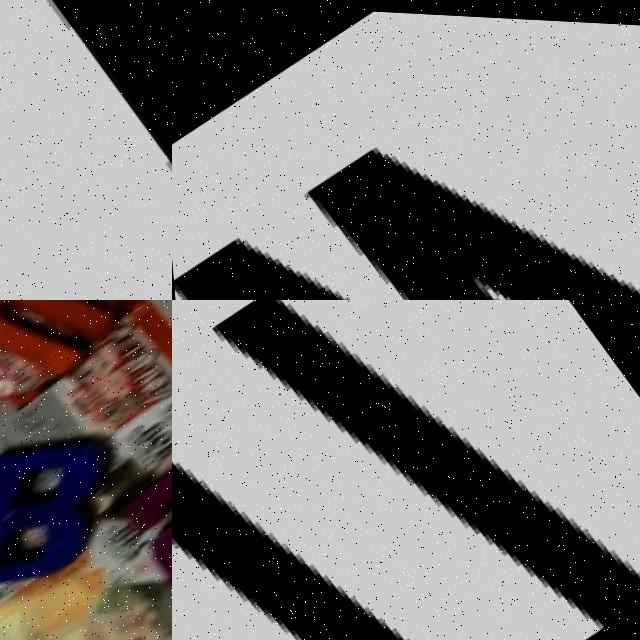B: (0, 397, 151, 628)
F: (5, 596, 172, 640)
J: (0, 0, 172, 300)
N: (172, 300, 640, 640)
S: (103, 423, 172, 599)
W: (172, 2, 640, 300), (0, 300, 172, 412)
